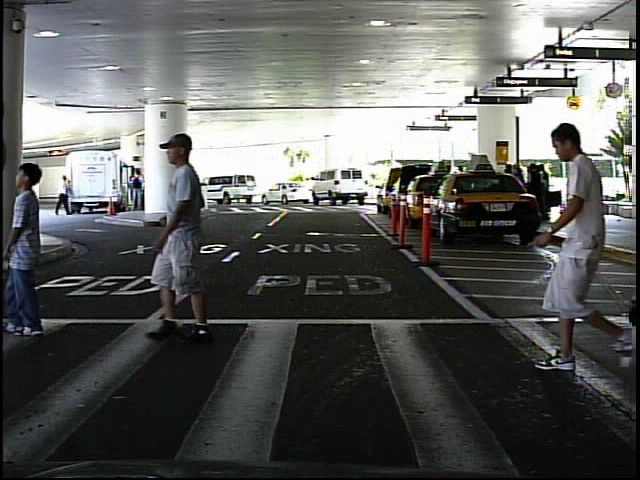person: (509, 114, 620, 381), (154, 129, 232, 342), (7, 156, 65, 345), (54, 171, 74, 221), (599, 172, 600, 217)
